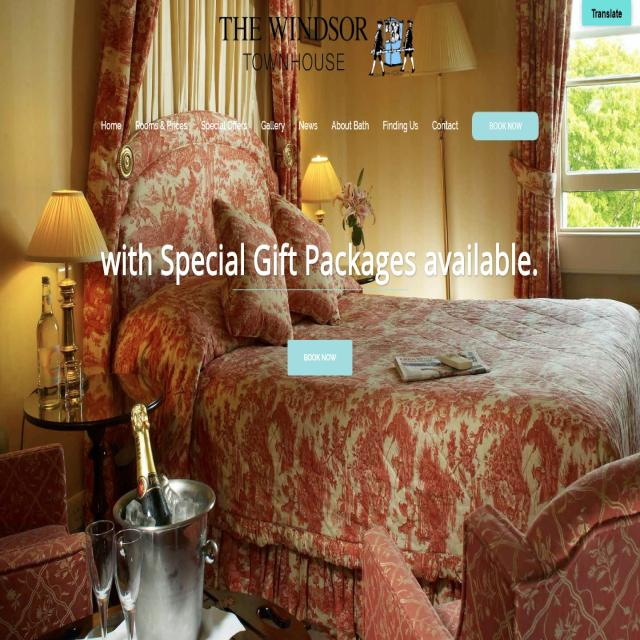button: (288, 338, 353, 376), (471, 112, 539, 142), (131, 114, 192, 135), (582, 1, 631, 26), (197, 114, 251, 136), (376, 116, 424, 139), (328, 116, 373, 139), (426, 114, 464, 140), (255, 116, 289, 138), (293, 116, 325, 136), (97, 116, 126, 136)
heading: (94, 243, 540, 284), (212, 10, 370, 43)
image: (0, 0, 640, 640), (369, 13, 420, 80)
text: (236, 46, 349, 76)
